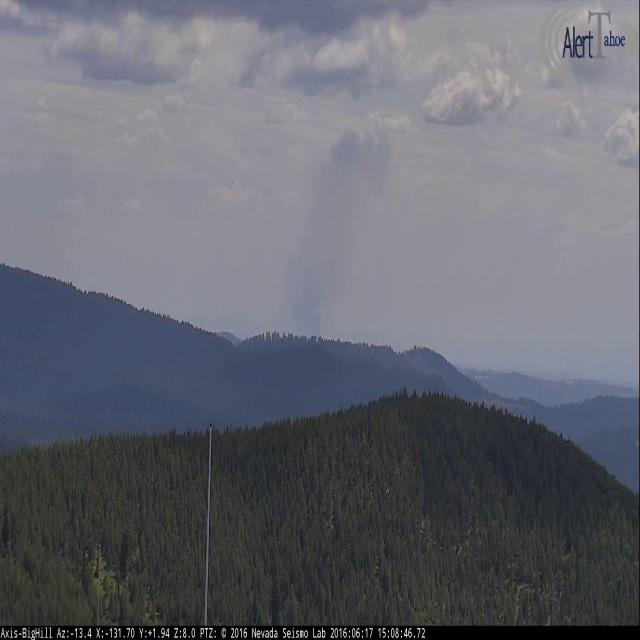smoke: (280, 124, 392, 335)
